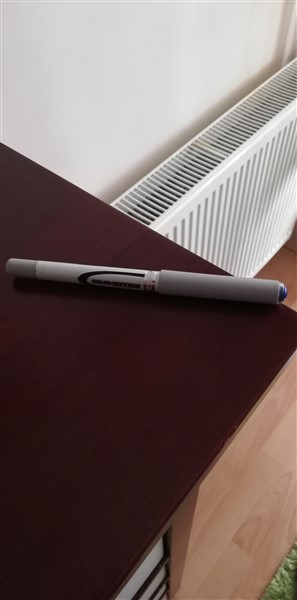pilot kalem: (5, 251, 292, 322)
